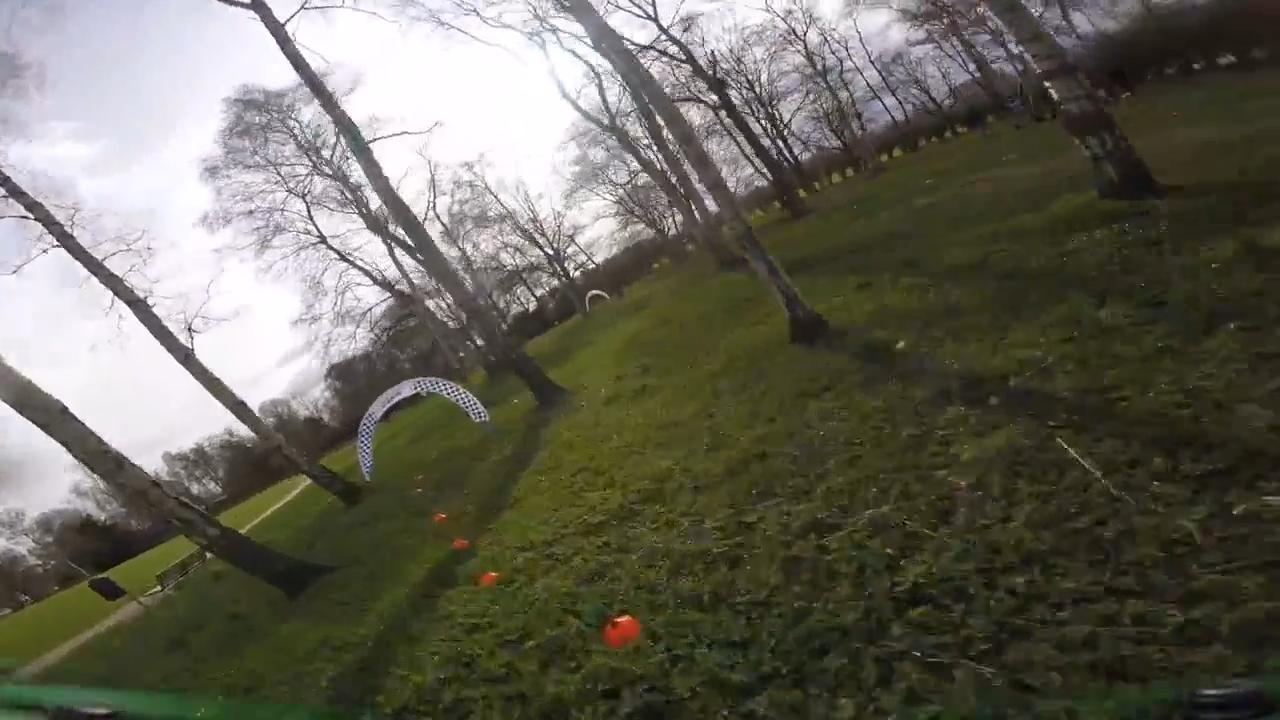gate: (353, 373, 492, 481)
